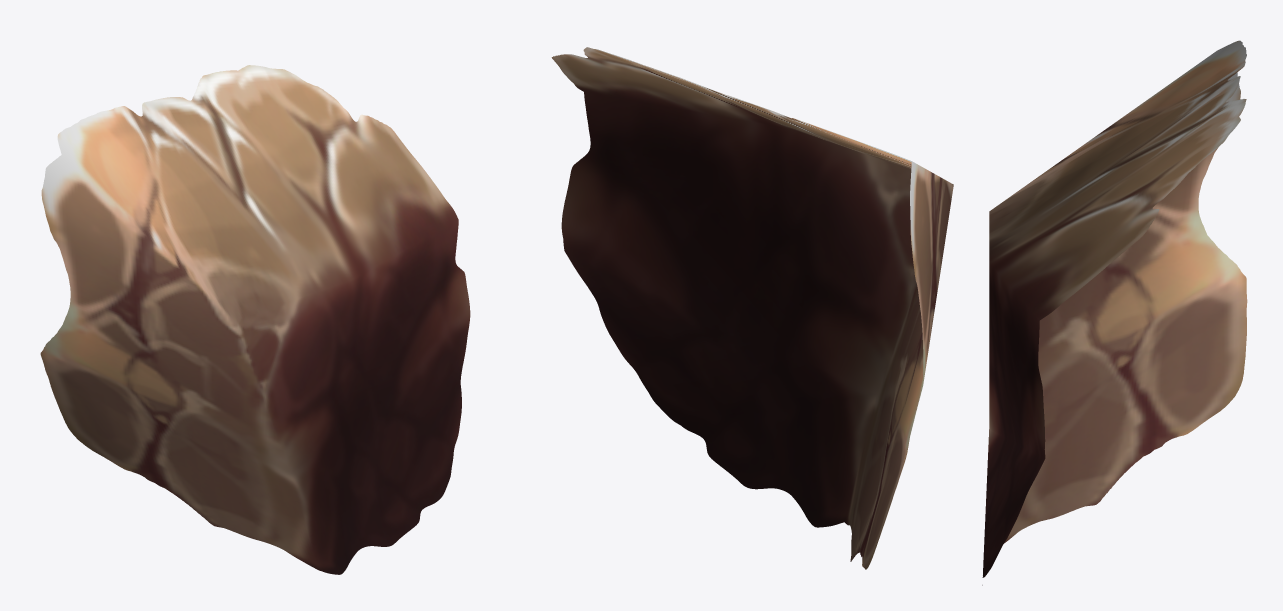
File: Falling Edge 3.FBX
The picture shows the model from 3 angles, left to right: view 1: azimuth 30°, elevation 25°; view 2: azimuth 150°, elevation 25°; view 3: azimuth 270°, elevation 25°; orthographic projection. The views are drawn at different scales.
Visible parts, largest first — view 1: Falling Edge 3; view 2: Falling Edge 3; view 3: Falling Edge 3.
Part boxes in pixels (x1,y1,x2,y2): Falling Edge 3: (40,65,470,574); Falling Edge 3: (551,47,953,569); Falling Edge 3: (982,40,1247,585).
Bounding box in the file's own units: 468 × 284 × 567.
